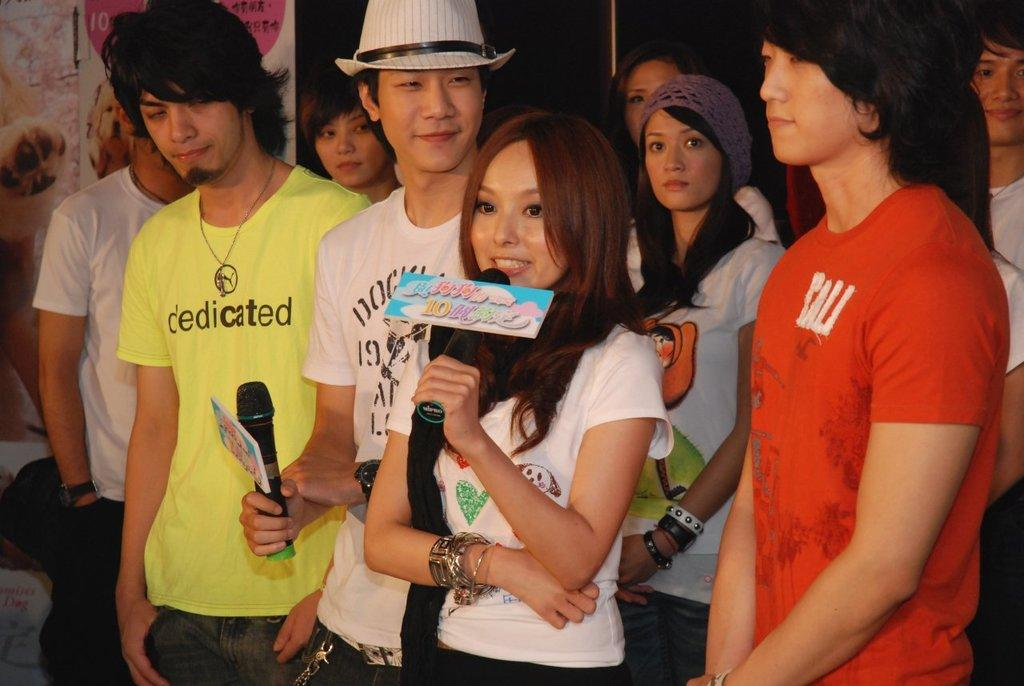Hat: (336, 0, 518, 79)
